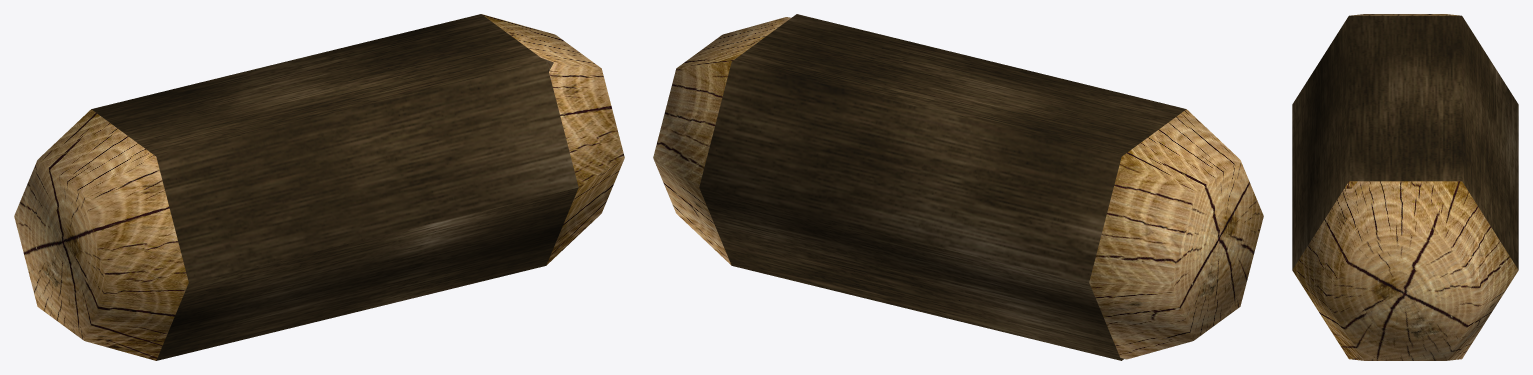
File: Log.fbx
3 renders of one model, left to right at view 1: azimuth 30°, elevation 25°; view 2: azimuth 150°, elevation 25°; view 3: azimuth 270°, elevation 25°, orthographic. The views are drawn at different scales.
Visible parts, largest first — view 1: Cylinder; view 2: Cylinder; view 3: Cylinder.
Boxes of the visible parts, bbox=[...] form: Cylinder: bbox=[14, 14, 624, 360]; Cylinder: bbox=[653, 14, 1263, 360]; Cylinder: bbox=[1292, 14, 1518, 360].
Bounding box in the file's own units: 45.13 × 17.01 × 19.64.
